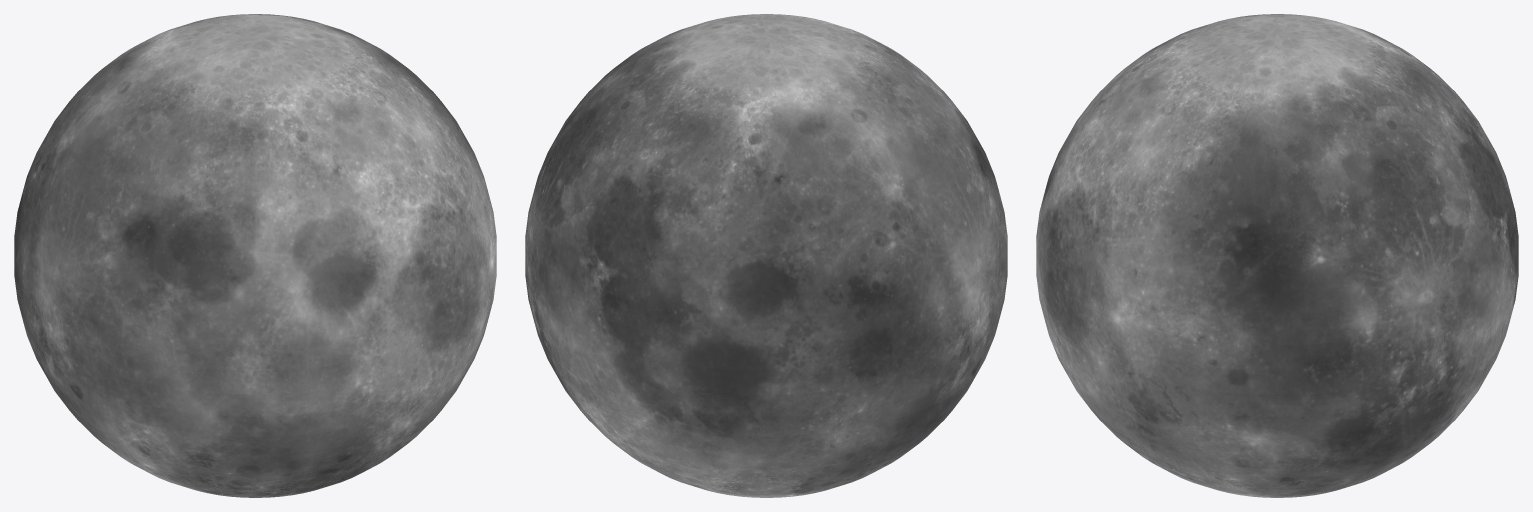
The model's file is moon.glb.
The picture shows the model from 3 angles, left to right: view 1: azimuth 30°, elevation 25°; view 2: azimuth 150°, elevation 25°; view 3: azimuth 270°, elevation 25°; orthographic projection.
Parts seen in each view (by area): view 1: Moon_1; view 2: Moon_1; view 3: Moon_1.
Boxes of the visible parts, x1,y1,x2,y2 form: Moon_1: (14, 14, 496, 497); Moon_1: (525, 14, 1007, 497); Moon_1: (1036, 14, 1518, 497).
Size of the model in its own units: 2.51 by 2.52 by 2.51.
1 material, 1 textured.
